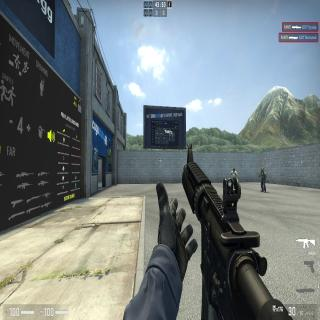CT-Body: (260, 167, 266, 191)
CT-Head: (261, 167, 264, 172)
T-Body: (232, 168, 236, 184)
T-Head: (233, 168, 235, 172)
